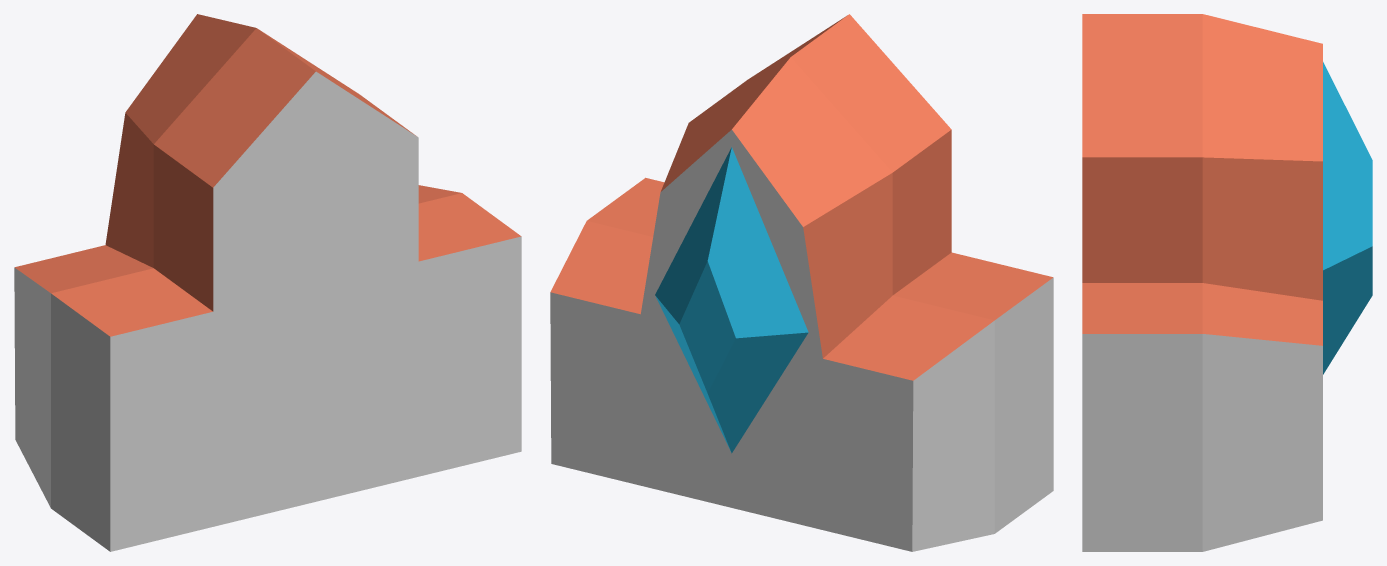
The model's file is Ship_01.fbx.
3 renders of one model, left to right at view 1: azimuth 30°, elevation 25°; view 2: azimuth 150°, elevation 25°; view 3: azimuth 270°, elevation 25°, orthographic. The views are drawn at different scales.
Parts seen in each view (by area): view 1: PlayerShip; view 2: PlayerShip; view 3: PlayerShip.
Part boxes in pixels (x1=…): PlayerShip: x1=14, y1=14, x2=521, y2=551; PlayerShip: x1=550, y1=14, x2=1053, y2=551; PlayerShip: x1=1082, y1=14, x2=1372, y2=551.
Bounding box in the file's own units: 100 × 100 × 60.26.
